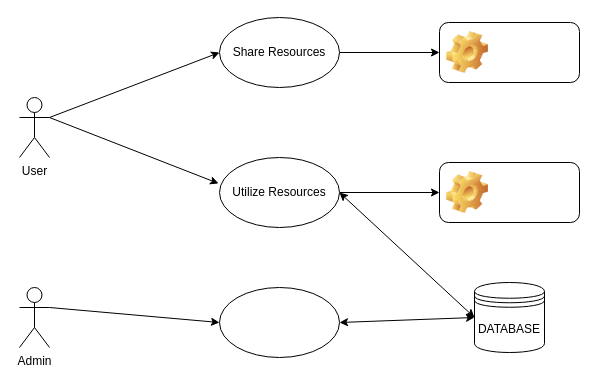
The diagram is 597 pixels wide and 386 high, and some of its shapes have lost their labels. Here are the shapes that lost their labels. From the top down, the centre of each, then its label:
pixel 509 52: Terminal Sharing
pixel 509 192: Natural Language Processing
pixel 279 322: Ban/ Unban a user
